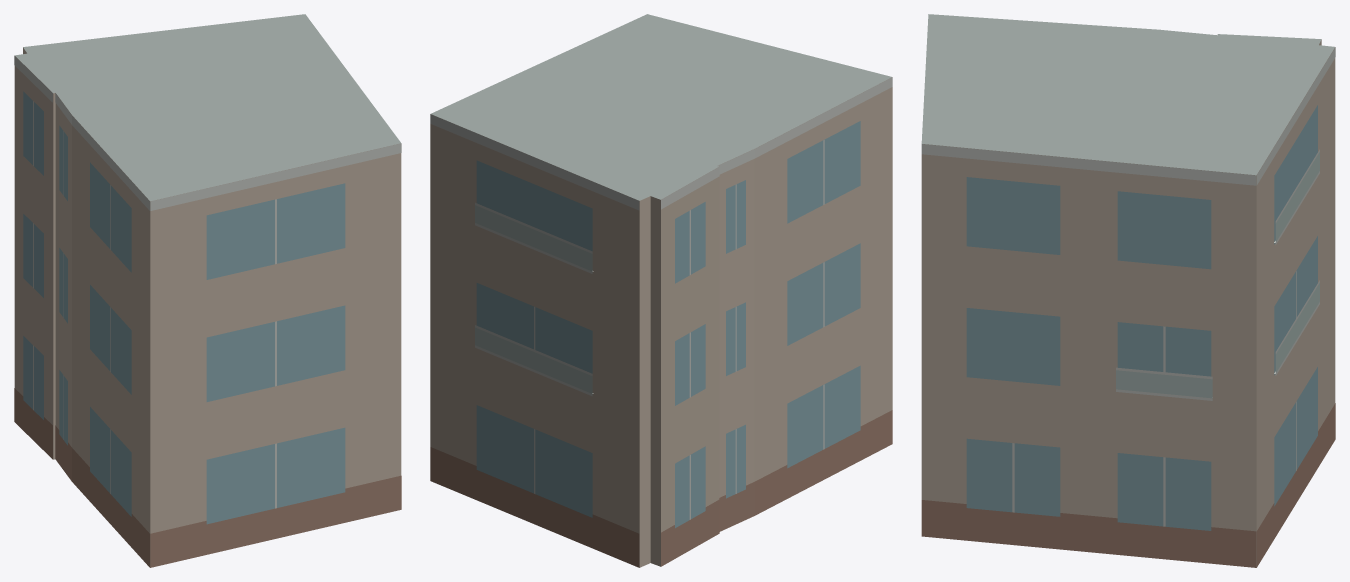
Rendered from survey-upis-32995703.glb.
3 renders of one model, left to right at view 1: azimuth 30°, elevation 25°; view 2: azimuth 150°, elevation 25°; view 3: azimuth 270°, elevation 25°, orthographic. The views are drawn at different scales.
Visible parts, largest first — view 1: survey-upis-32995703.tmp; view 2: survey-upis-32995703.tmp; view 3: survey-upis-32995703.tmp.
Part boxes in pixels (box(x1,y1,x2,y2)): survey-upis-32995703.tmp: box(14, 14, 401, 567); survey-upis-32995703.tmp: box(430, 14, 892, 567); survey-upis-32995703.tmp: box(921, 14, 1335, 567).
Bounding box in the file's own units: 8.02 × 9.1 × 8.7.
